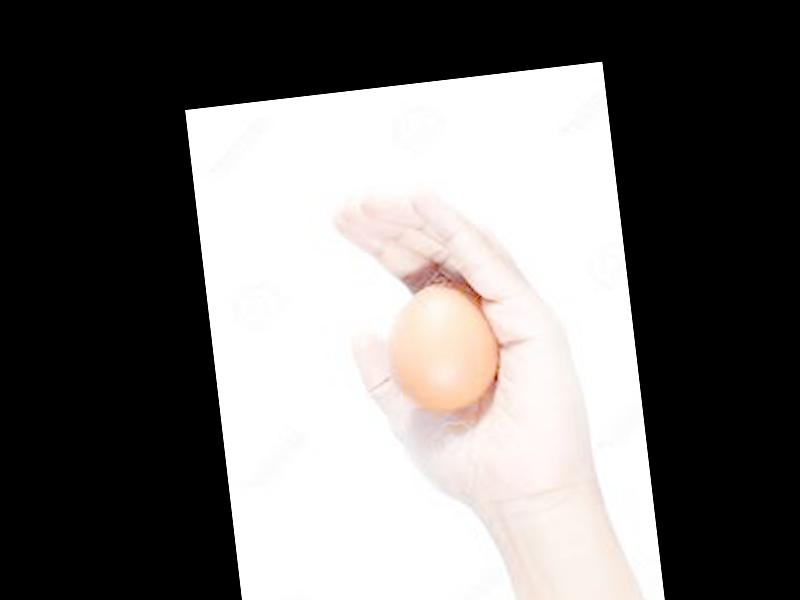Eggs: (382, 280, 501, 415)
